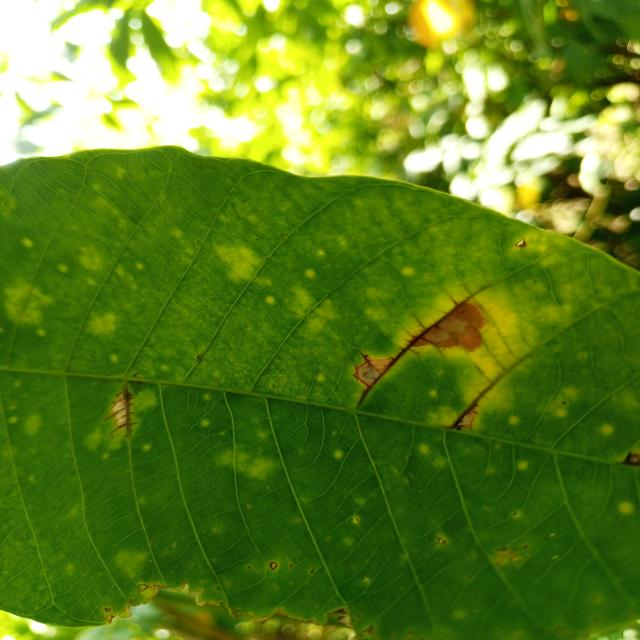Colletotrichum: (516, 239, 526, 247), (270, 562, 277, 570), (104, 607, 110, 612)
Corynespora: (356, 292, 475, 408), (446, 383, 494, 431), (103, 384, 139, 438), (358, 350, 372, 366)
Leaf-Blight: (413, 303, 486, 350), (353, 357, 391, 386)
